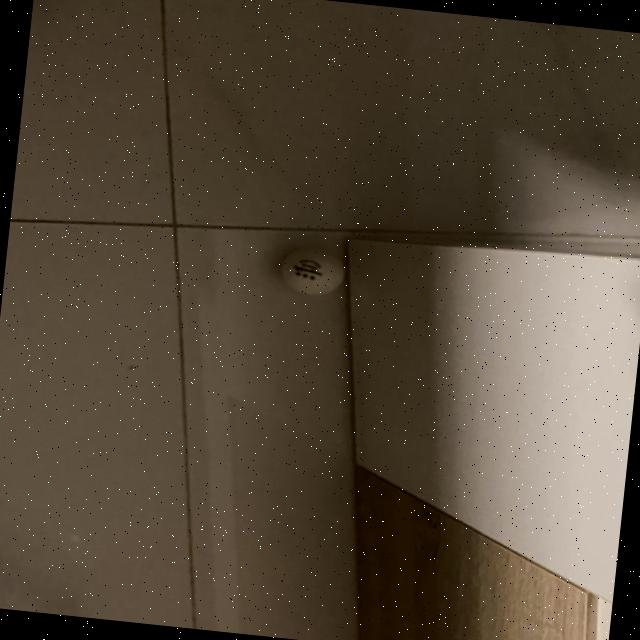ping-pong-ball: (277, 242, 347, 300)
